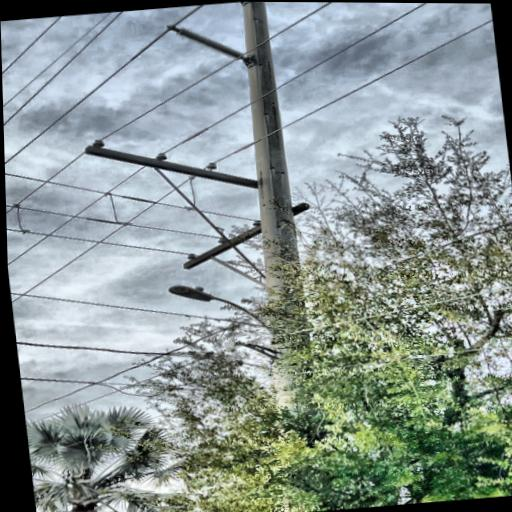pole: (201, 1, 348, 512)
